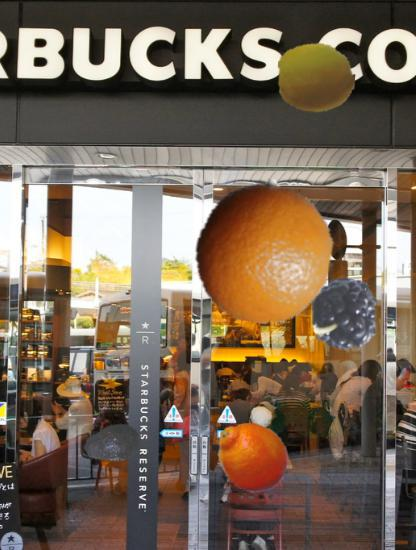Avocado: (84, 414, 142, 472)
Mulberry: (308, 270, 400, 362)
Orange: (192, 179, 336, 323)
Peach: (277, 39, 355, 117)
Tangelo: (212, 418, 290, 496)
